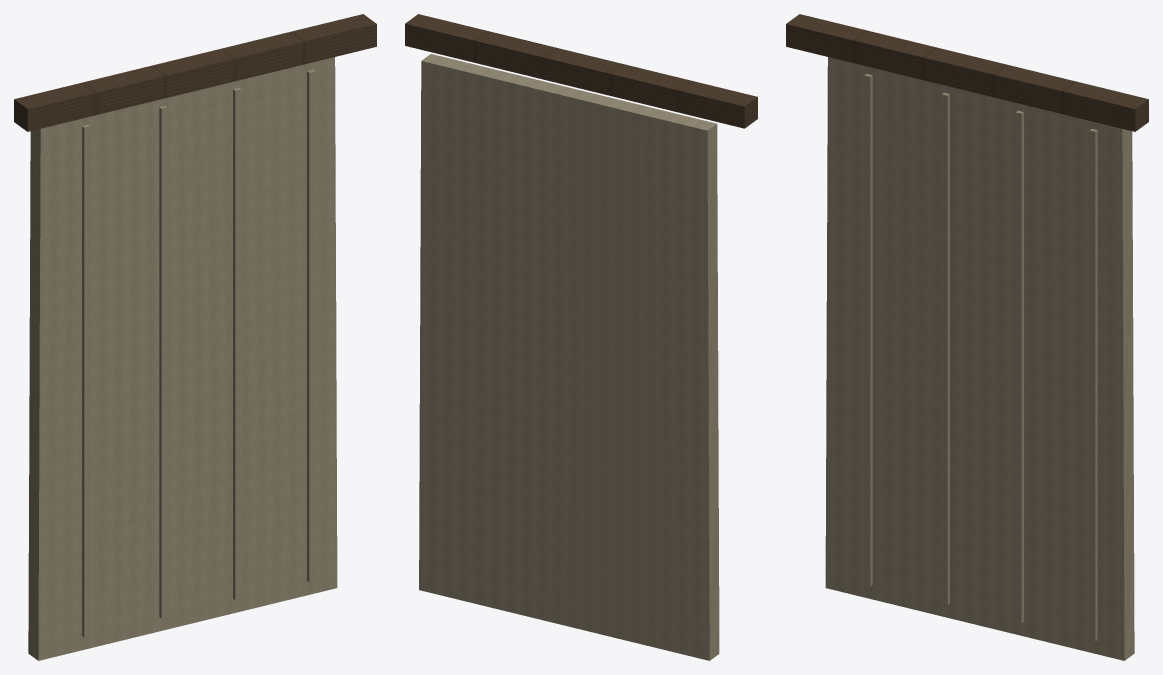
Rendered from part_curtain.glb.
3 views of the same model, side by side, from view 1: azimuth 30°, elevation 25°; view 2: azimuth 150°, elevation 25°; view 3: azimuth 330°, elevation 25° (orthographic). The views are drawn at different scales.
Parts seen in each view (by area): view 1: curtain; view 2: curtain; view 3: curtain.
Part boxes in pixels (box(x1,y1,x2,y2)): curtain: box(14, 14, 376, 660); curtain: box(405, 14, 757, 660); curtain: box(786, 14, 1148, 660).
Bounding box in the file's own units: 1.04 × 1.62 × 0.126.
2 materials, 2 textured.
